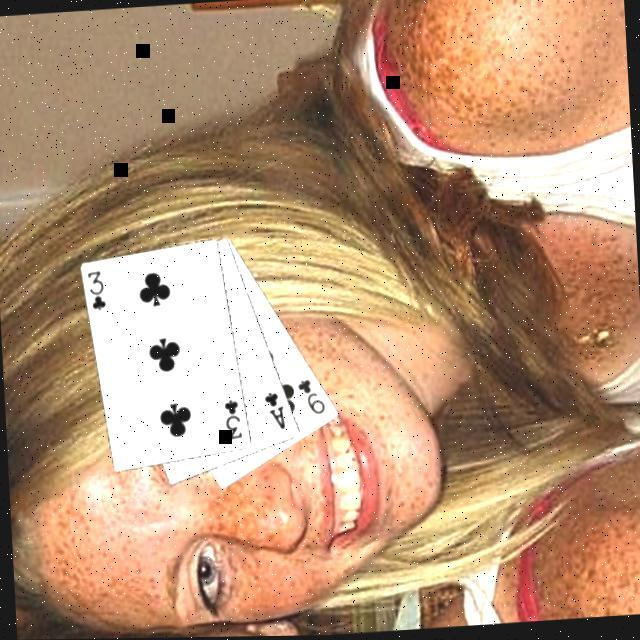3C: (83, 270, 107, 317), (220, 399, 243, 446)
9C: (292, 377, 328, 421)
AC: (259, 392, 287, 436)
